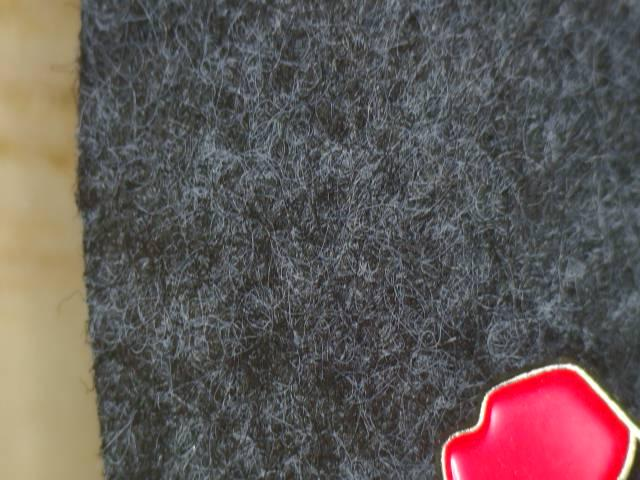Red-Hat: (398, 345, 640, 480)
